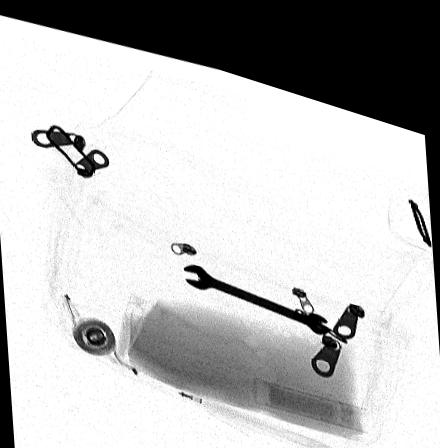Wrench: (183, 251, 332, 315)
